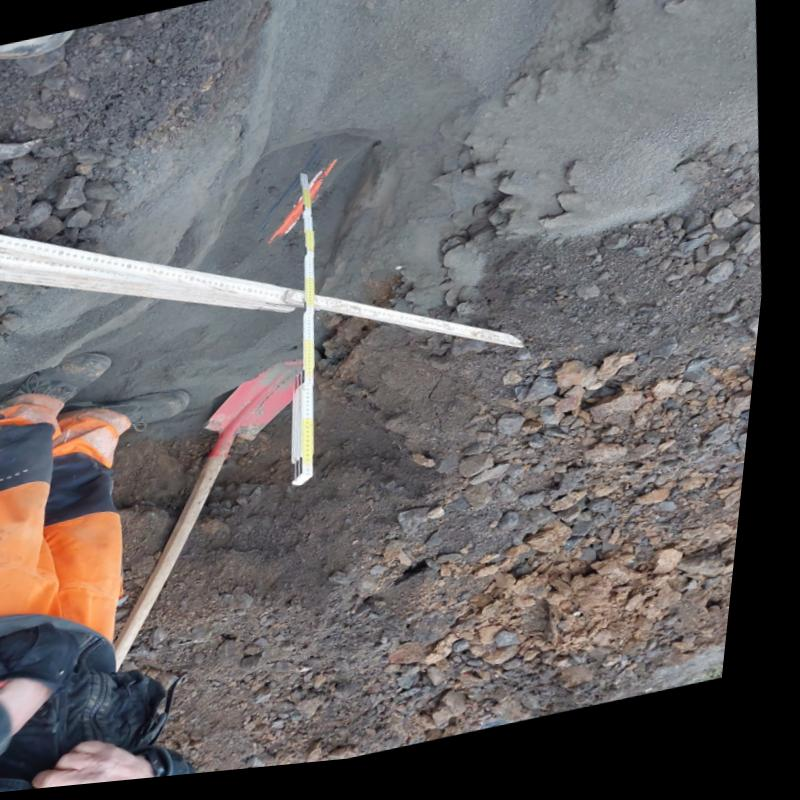Orang-Speednetrohrchen: (275, 170, 337, 246)
